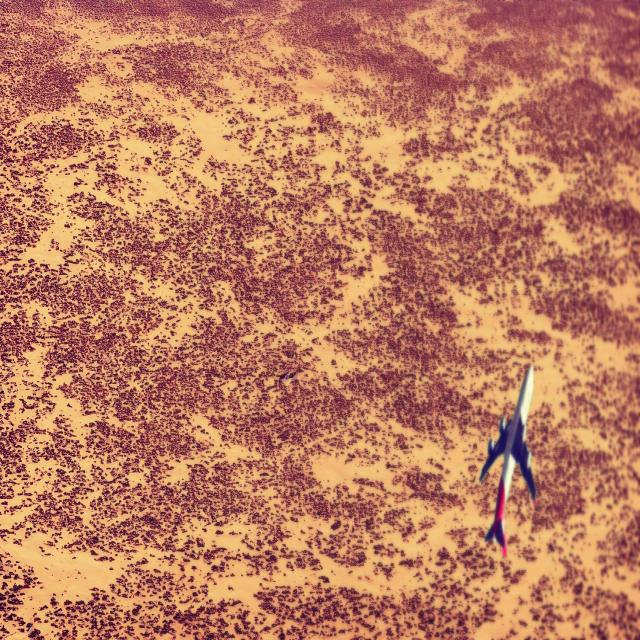airplane: (478, 364, 536, 557)
